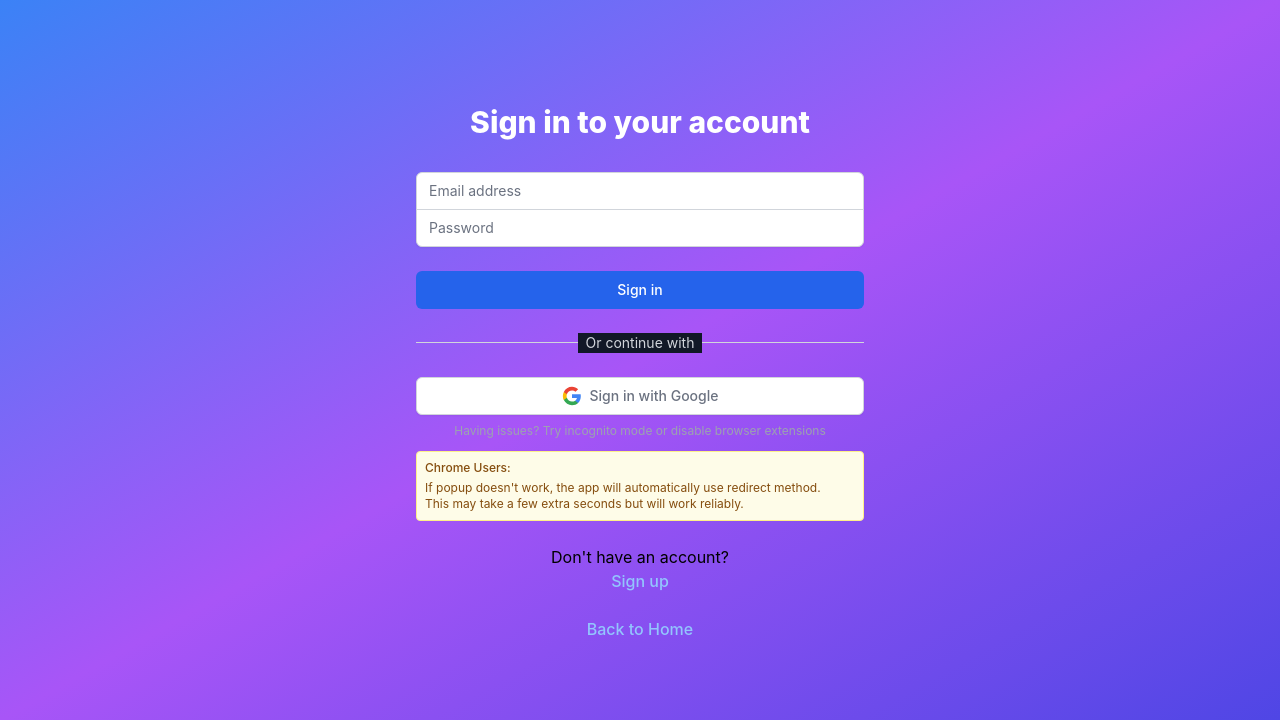
Scenario: Login Page › Email/Password Authentication › handles authentication errors gracefully
Type "test@example.com" into the field with placeholder "Email address" at (640,190), box x1=416 y1=172 x2=864 y2=210
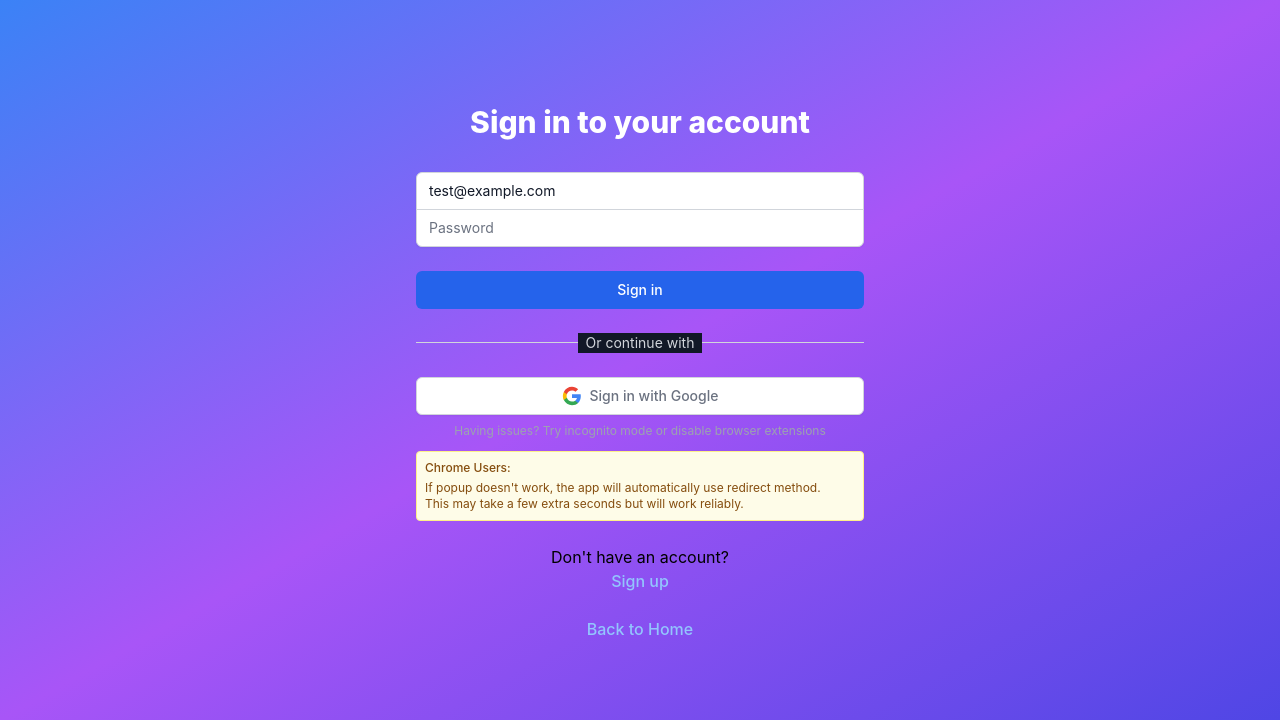
Type "password123" into the password field with placeholder "Password" at (640,228), box x1=416 y1=208 x2=864 y2=246
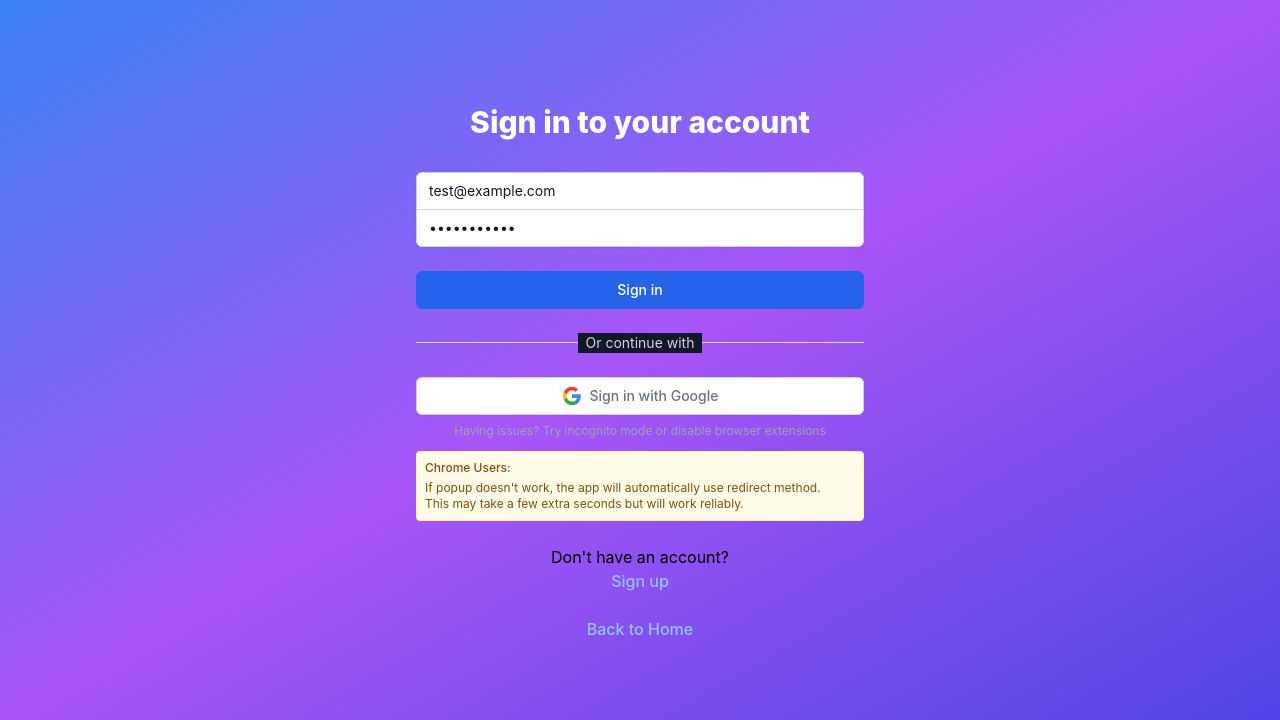
Click the button "Sign in" at (640,290), box x1=416 y1=270 x2=864 y2=308
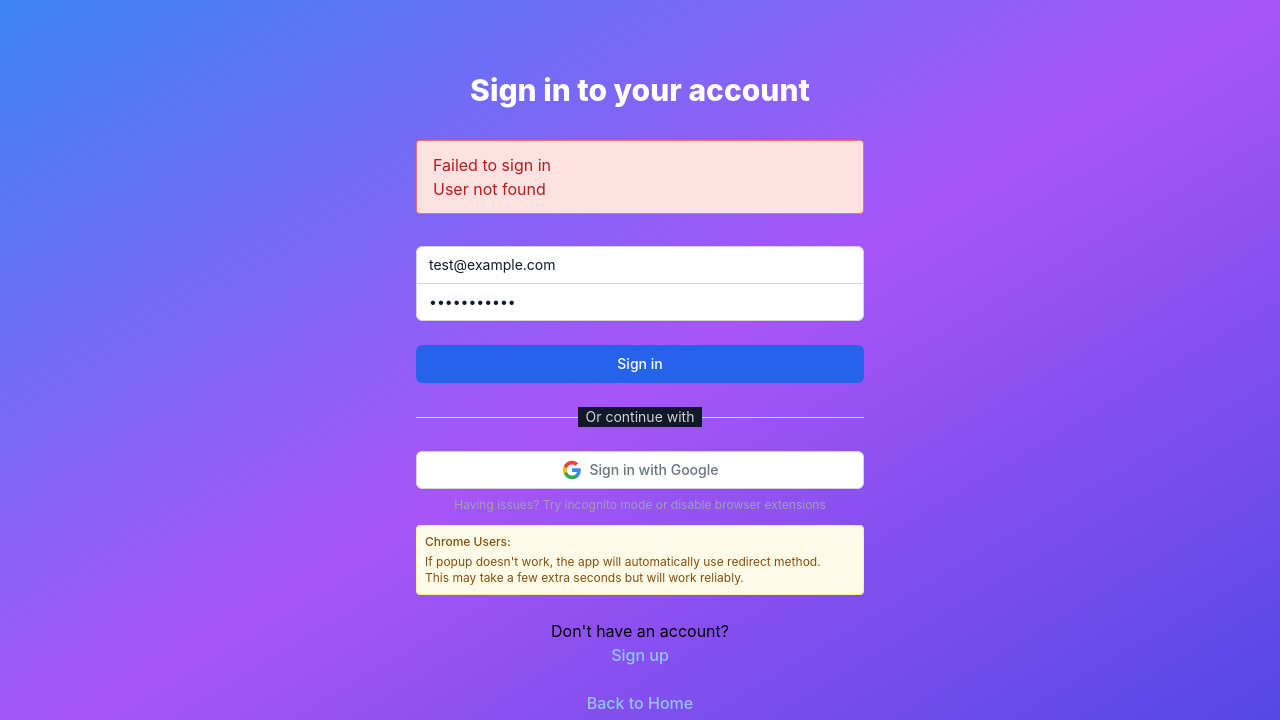
Expected: the text "User not found" is shown, x1=433 y1=179 x2=546 y2=199
